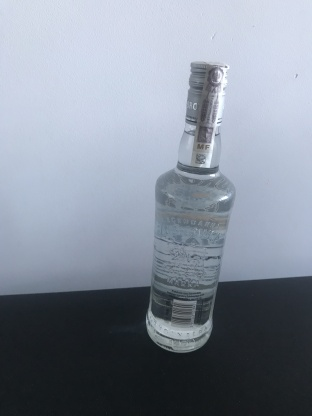nakretka: (183, 56, 231, 130)
